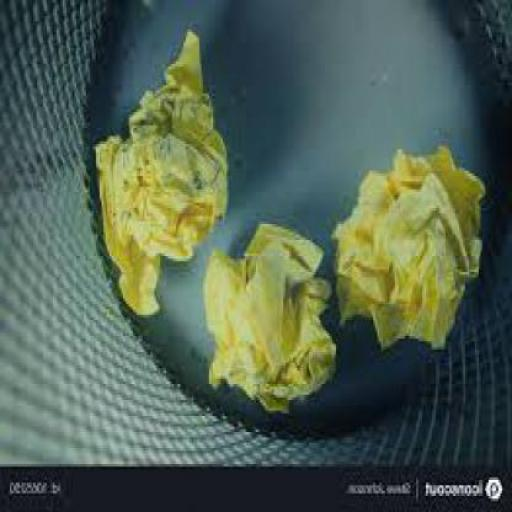paper: (94, 26, 231, 314), (334, 142, 488, 352), (206, 216, 344, 413)
